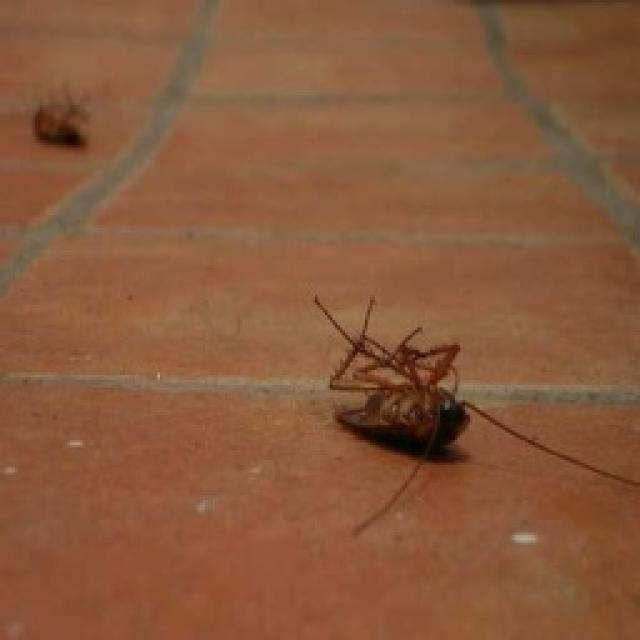cockroach: (12, 72, 118, 167)
